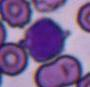L: (24, 16, 66, 62)
